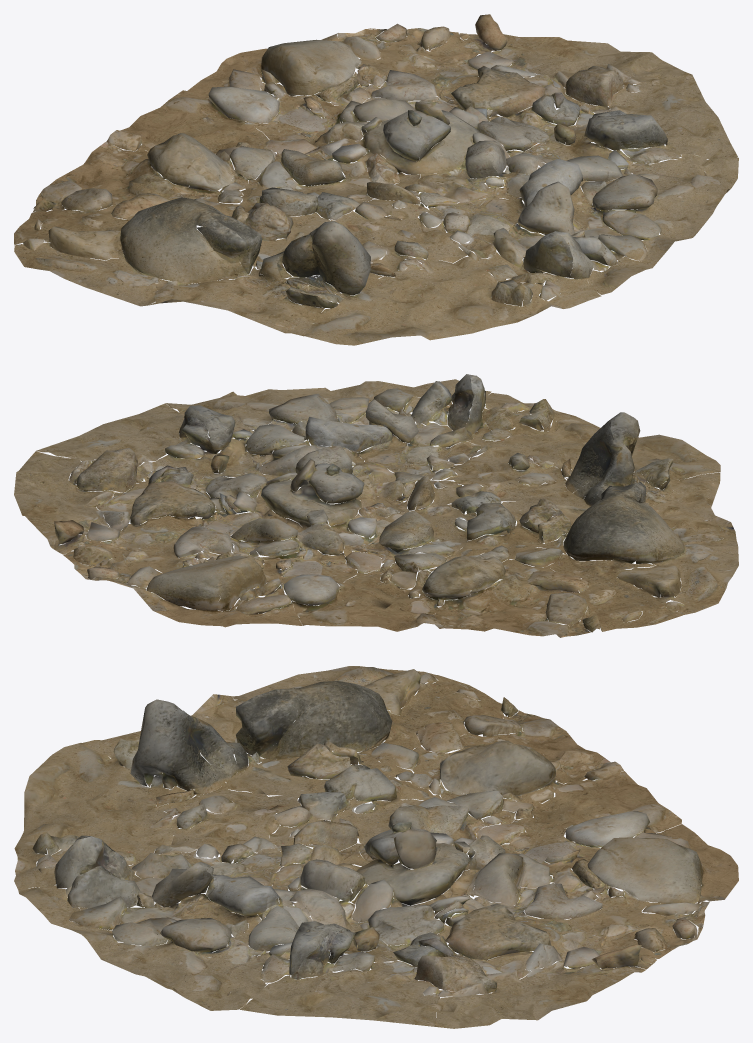
File: sand_rocks_small_01.fbx
3 views of the same model, one above another, from view 1: azimuth 30°, elevation 25°; view 2: azimuth 150°, elevation 25°; view 3: azimuth 270°, elevation 25° (orthographic). The views are drawn at different scales.
Parts seen in each view (by area): view 1: sand_rocks_small_01.001; view 2: sand_rocks_small_01.001; view 3: sand_rocks_small_01.001.
Part boxes in pixels (x1,y1,x2,y2): sand_rocks_small_01.001: [14, 14, 738, 345]; sand_rocks_small_01.001: [14, 374, 738, 637]; sand_rocks_small_01.001: [14, 666, 738, 1028].
Bounding box in the file's own units: 4.63 × 3.88 × 0.5411.
